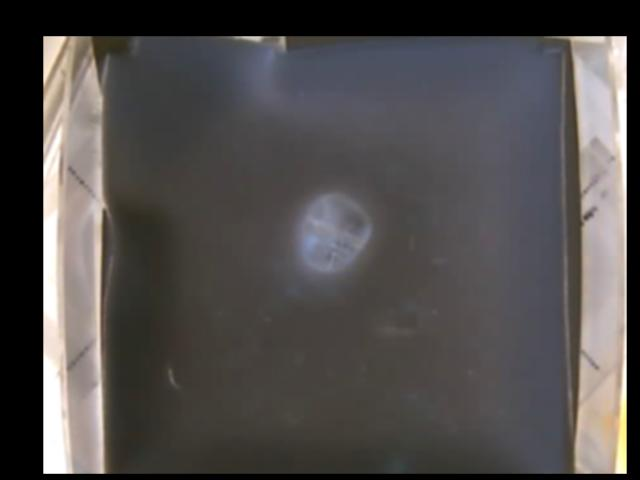Pebble: (301, 192, 371, 269)
